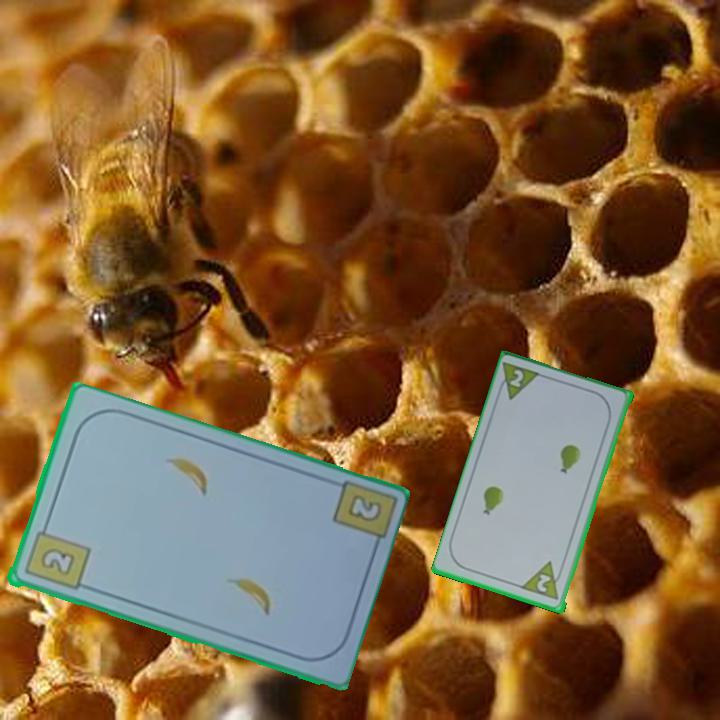2b: (20, 519, 92, 594), (343, 491, 385, 525)
2p: (494, 359, 545, 404), (533, 570, 555, 596)
